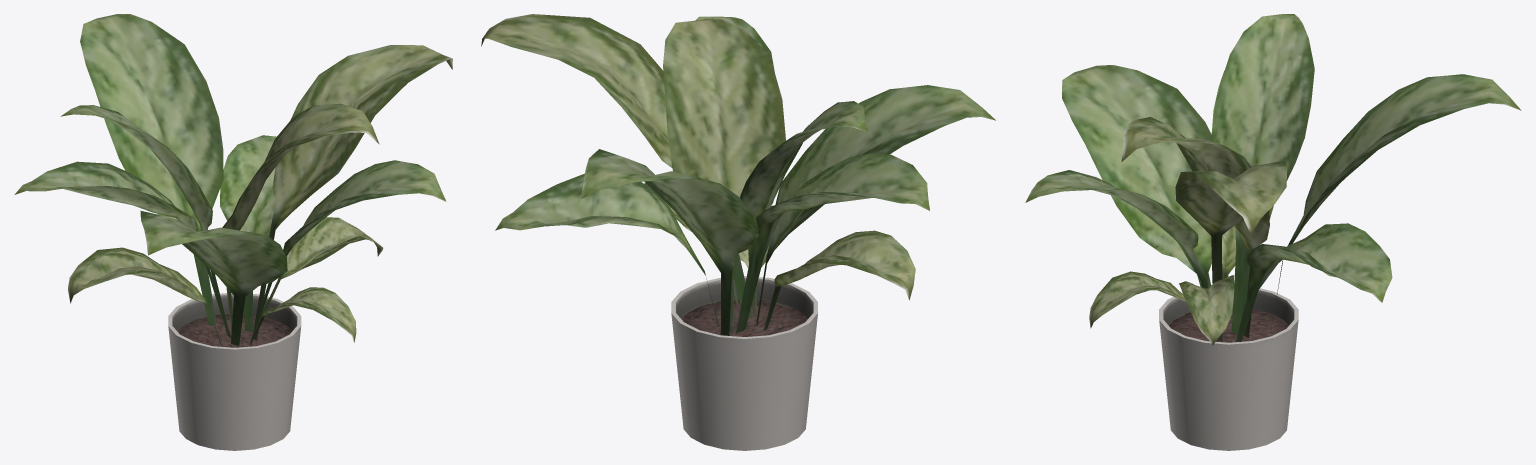
Rendered from Plant_InteriorHouse_Aglaonema.FBX.
3 views of the same model, side by side, from view 1: azimuth 30°, elevation 25°; view 2: azimuth 150°, elevation 25°; view 3: azimuth 270°, elevation 25° (orthographic). The views are drawn at different scales.
Parts seen in each view (by area): view 1: Plant_InteriorHouse_Aglaonema; view 2: Plant_InteriorHouse_Aglaonema; view 3: Plant_InteriorHouse_Aglaonema.
Part boxes in pixels (<box>): Plant_InteriorHouse_Aglaonema: <box>14,14,452,450</box>; Plant_InteriorHouse_Aglaonema: <box>481,14,995,450</box>; Plant_InteriorHouse_Aglaonema: <box>1025,14,1521,450</box>.
Size of the model in its own units: 61.42 by 45.85 by 59.61.
